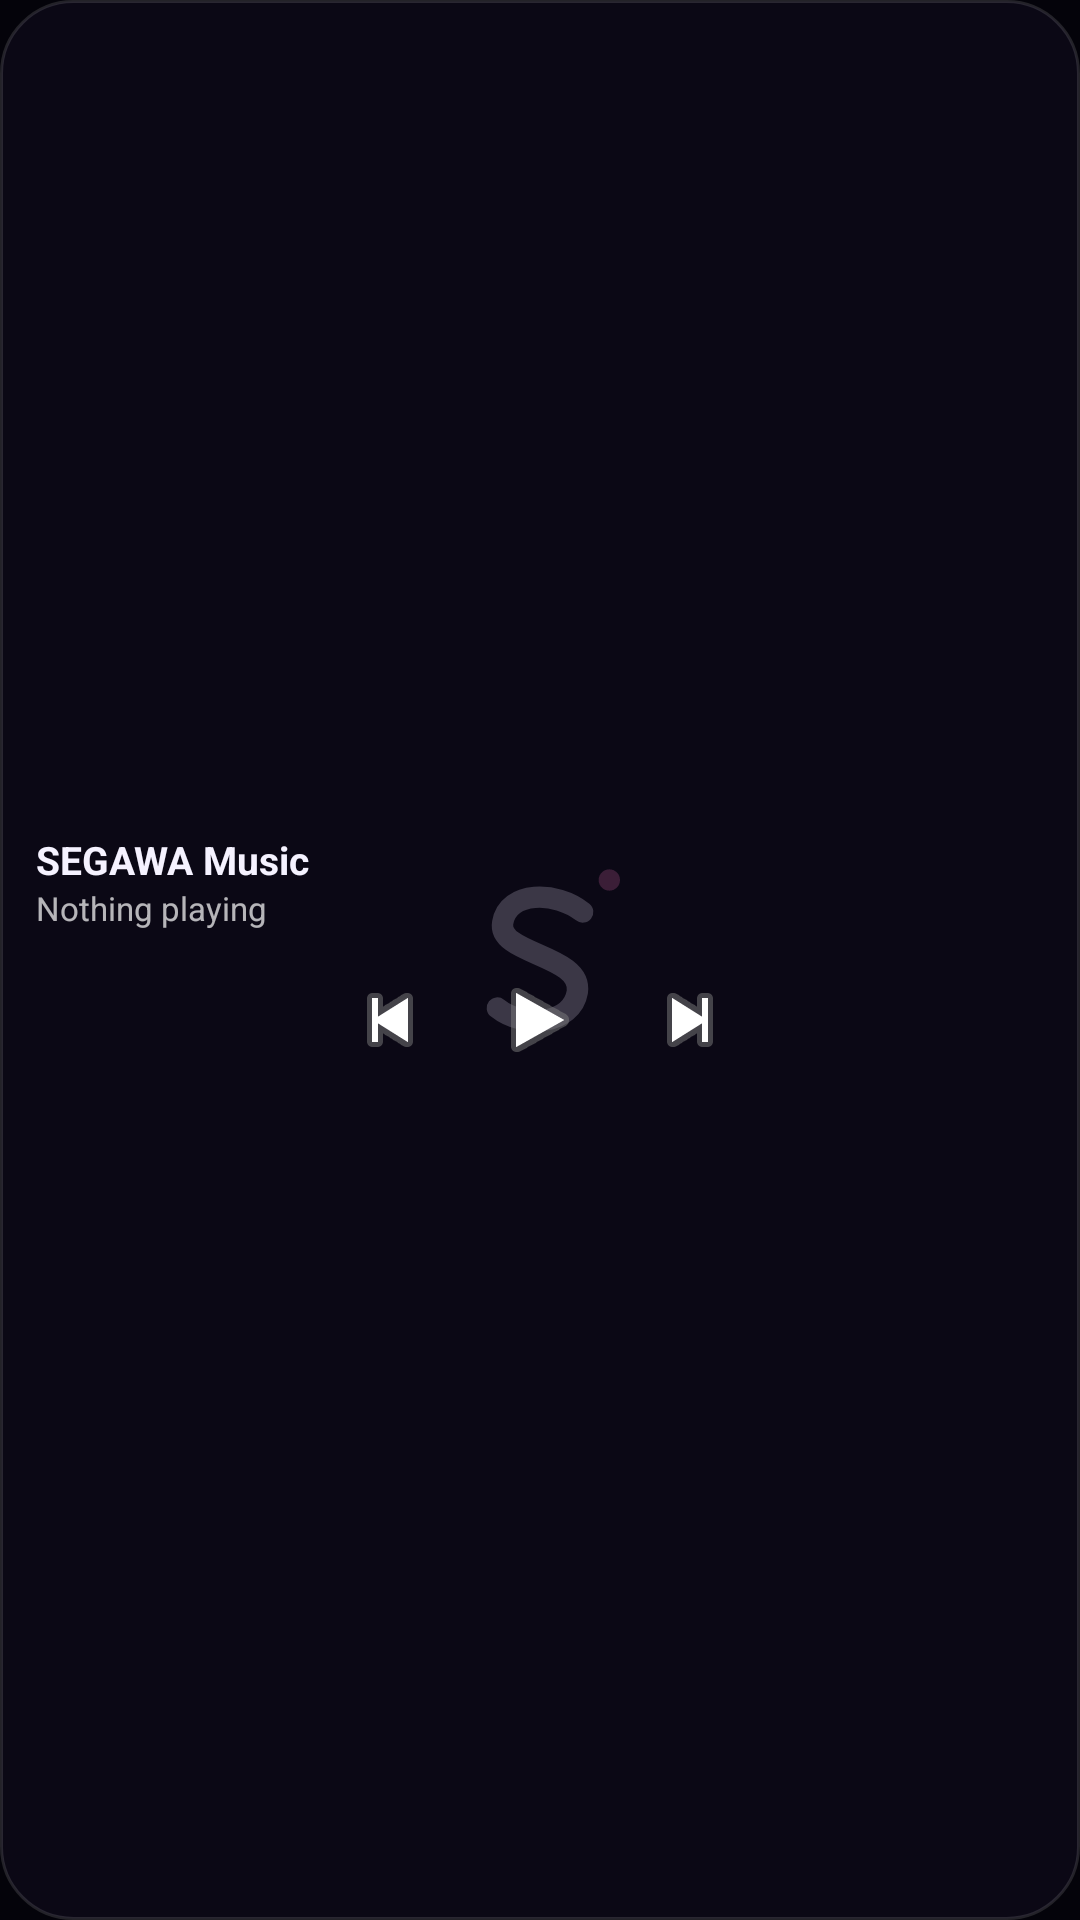

Point at icon controls on the screen. Image size 1080*1920, points as (x=x, y=y).
next: (x=690, y=1020)
previous: (x=390, y=1020)
